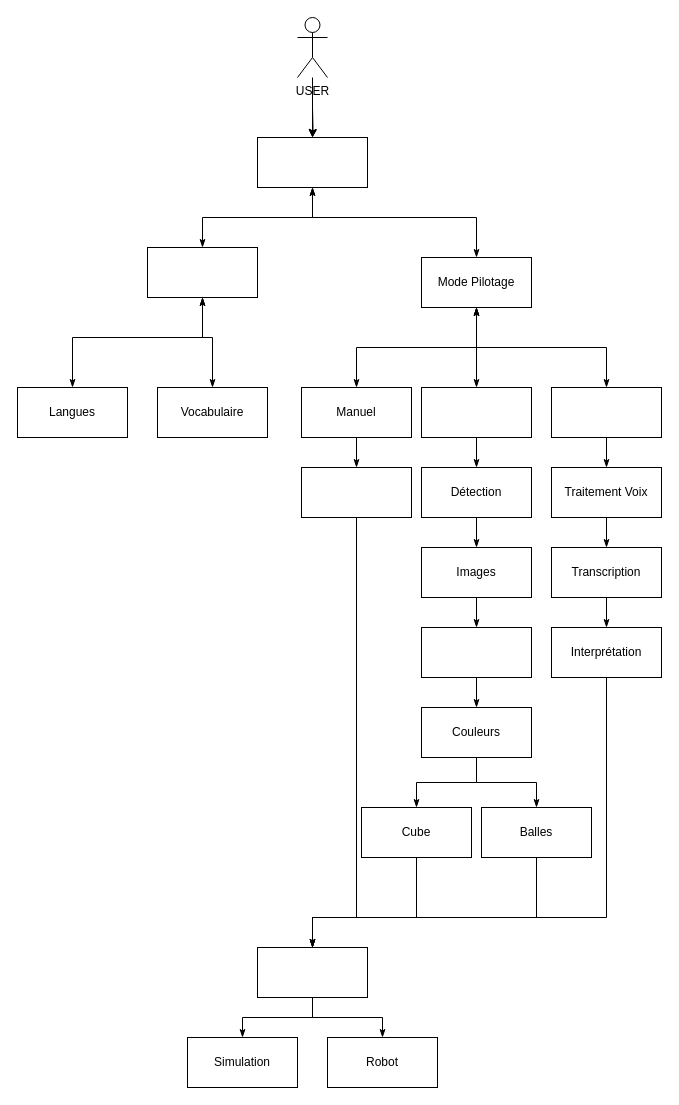
The diagram is 679 pixels wide and 1105 high, and some of its shapes have lost their labels. Here are the shapes that lost their labels. From the top down, the box of each, then its label:
(256, 136, 368, 188): CLI
(146, 246, 258, 298): Config
(420, 386, 532, 438): Automatique
(550, 386, 662, 438): Interface Vocal
(300, 466, 412, 518): CLI Commandes
(420, 626, 532, 678): Obstacles
(256, 946, 368, 998): Déplacement
